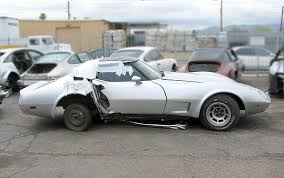Broken-glass: (94, 61, 136, 82)
Dent: (59, 78, 89, 95)
Smashed: (91, 78, 112, 118)
